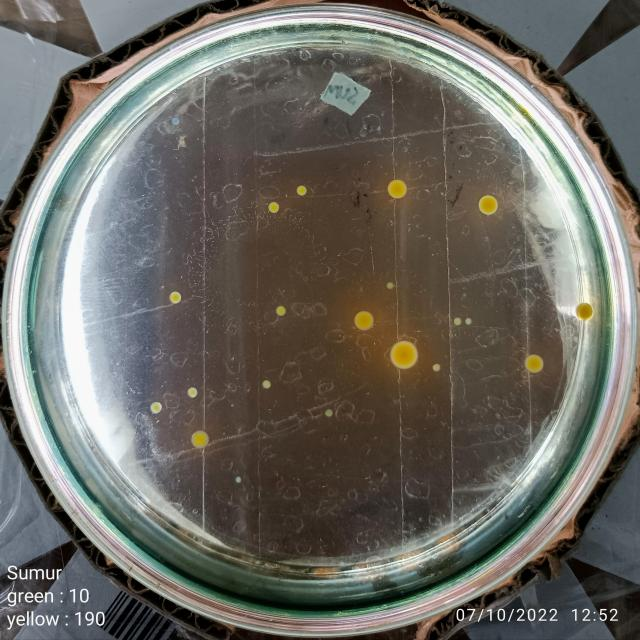green: (432, 363, 441, 372), (172, 117, 180, 126), (453, 318, 462, 326), (325, 409, 333, 417), (386, 283, 394, 289), (466, 318, 472, 325), (236, 476, 242, 483)
yellow: (390, 340, 419, 370), (354, 310, 374, 330), (478, 195, 498, 215), (388, 179, 407, 199), (525, 354, 544, 373), (191, 430, 209, 448), (575, 303, 593, 321), (169, 291, 182, 304), (268, 202, 280, 214), (151, 402, 162, 414), (296, 185, 307, 196), (276, 306, 287, 316), (188, 387, 198, 398), (262, 380, 272, 389)
